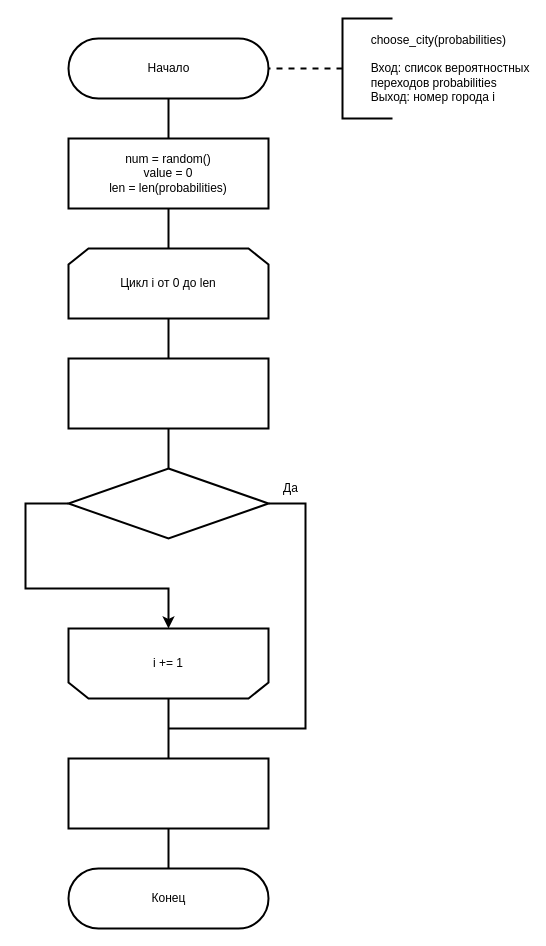
Some shapes in this 546 by 946 pixel diagram are drawn without their labels. The centre of each missing label's shape, as x and y in pixels:
value += probabilities[i]: pixel 168 393
value > num ?: pixel 168 503
Вернуть i: pixel 168 793
